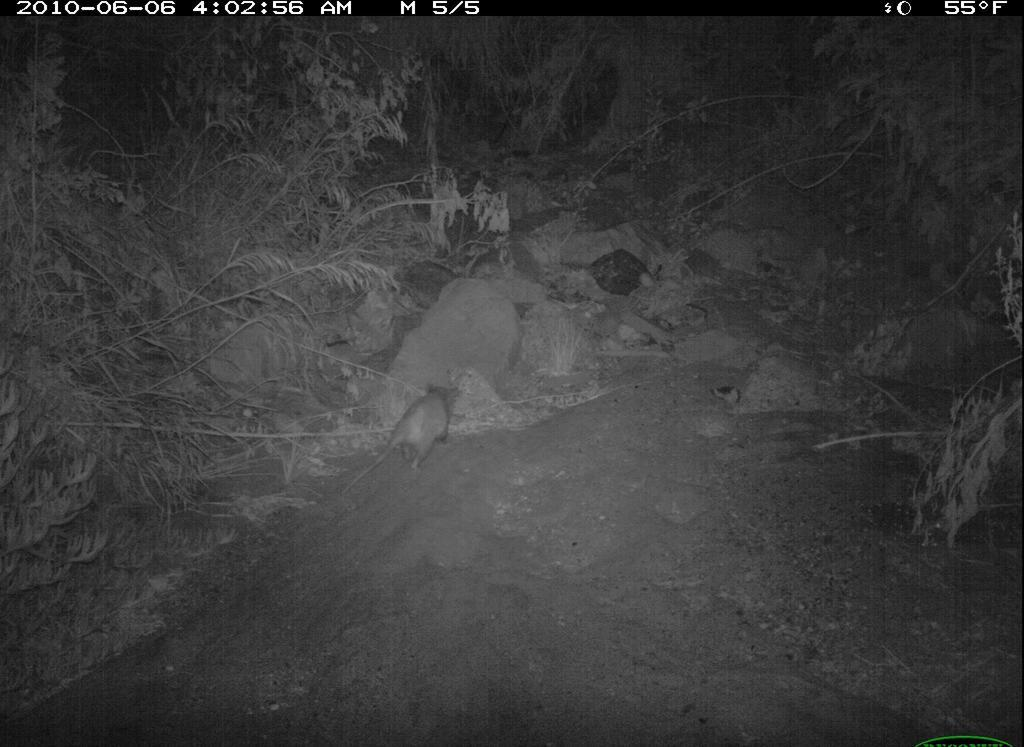opossum: (314, 356, 474, 496)
